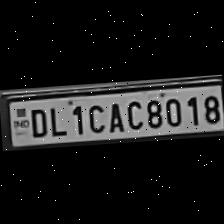0: (162, 93, 182, 127)
1: (64, 100, 84, 134), (180, 92, 200, 125)
8: (142, 94, 164, 128), (199, 90, 221, 122)
A: (102, 98, 124, 132)
C: (84, 98, 106, 132), (122, 96, 144, 130)
D: (25, 104, 48, 137)
L: (45, 102, 66, 136)
